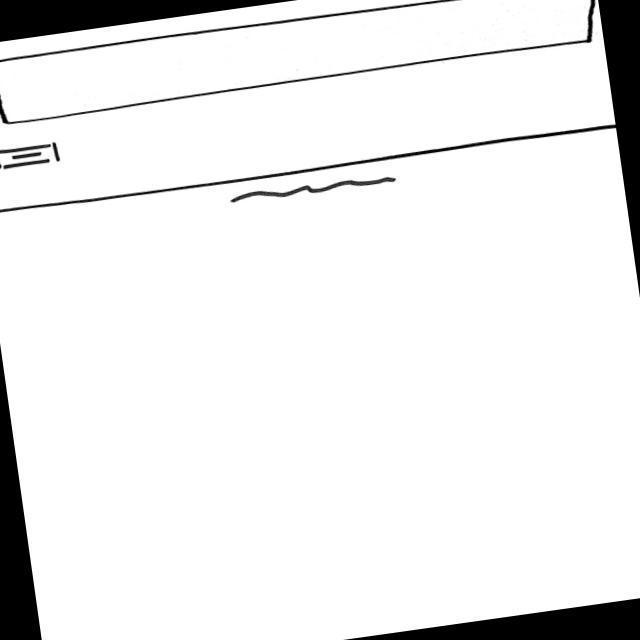container: (1, 1, 605, 127)
icon-button: (1, 142, 64, 174)
text: (228, 170, 404, 211)
